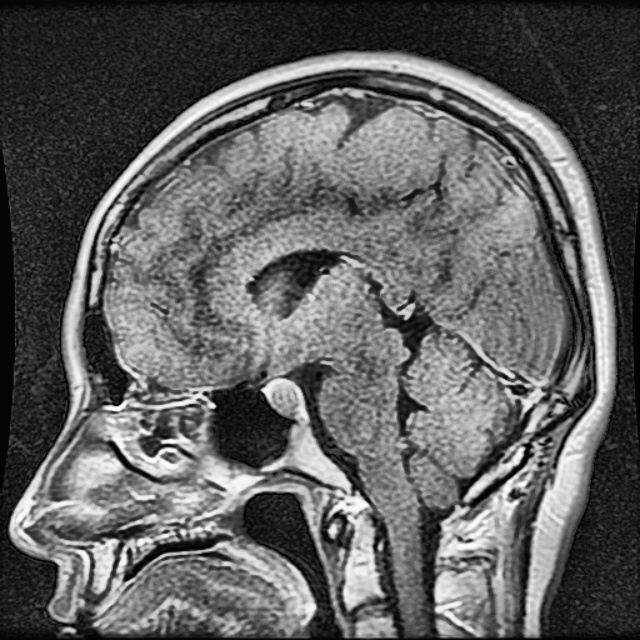Pituitary: (264, 379, 299, 413)
